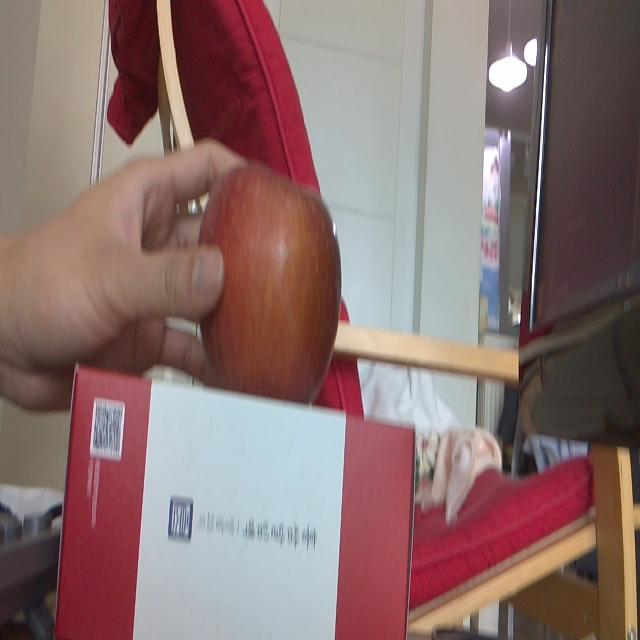apple: (199, 161, 342, 390)
